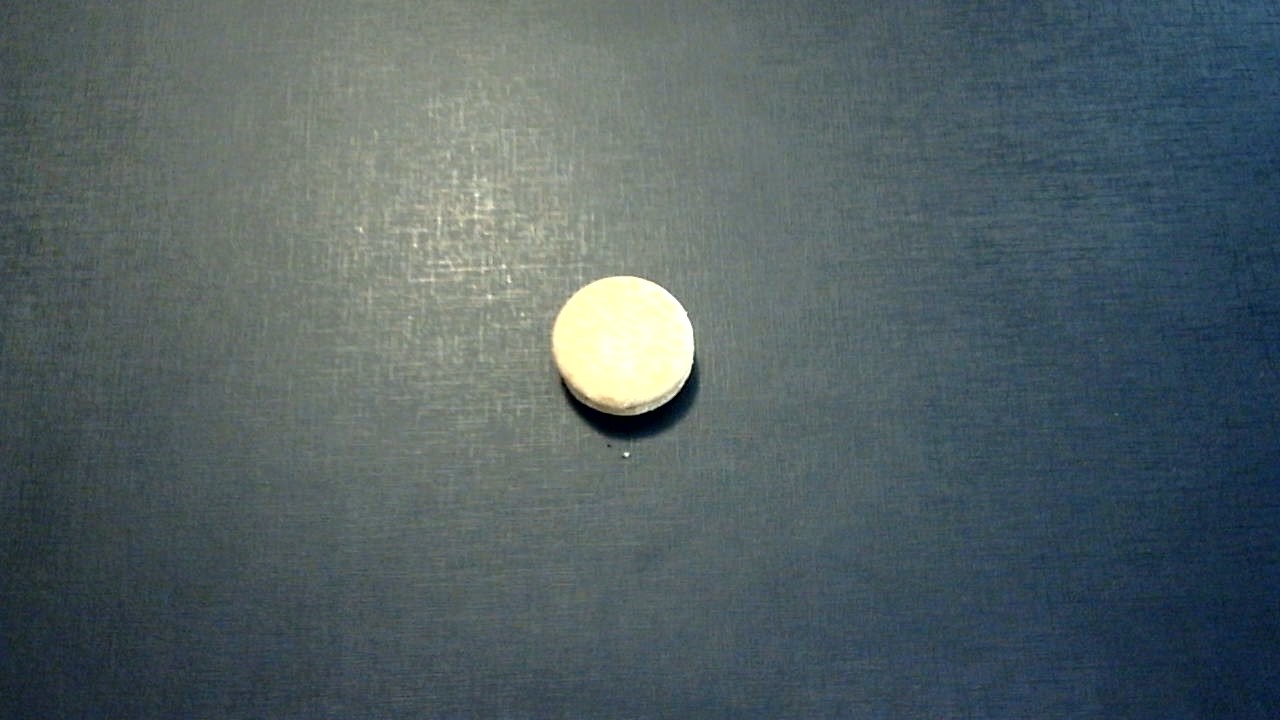lulu: (551, 274, 694, 418)
